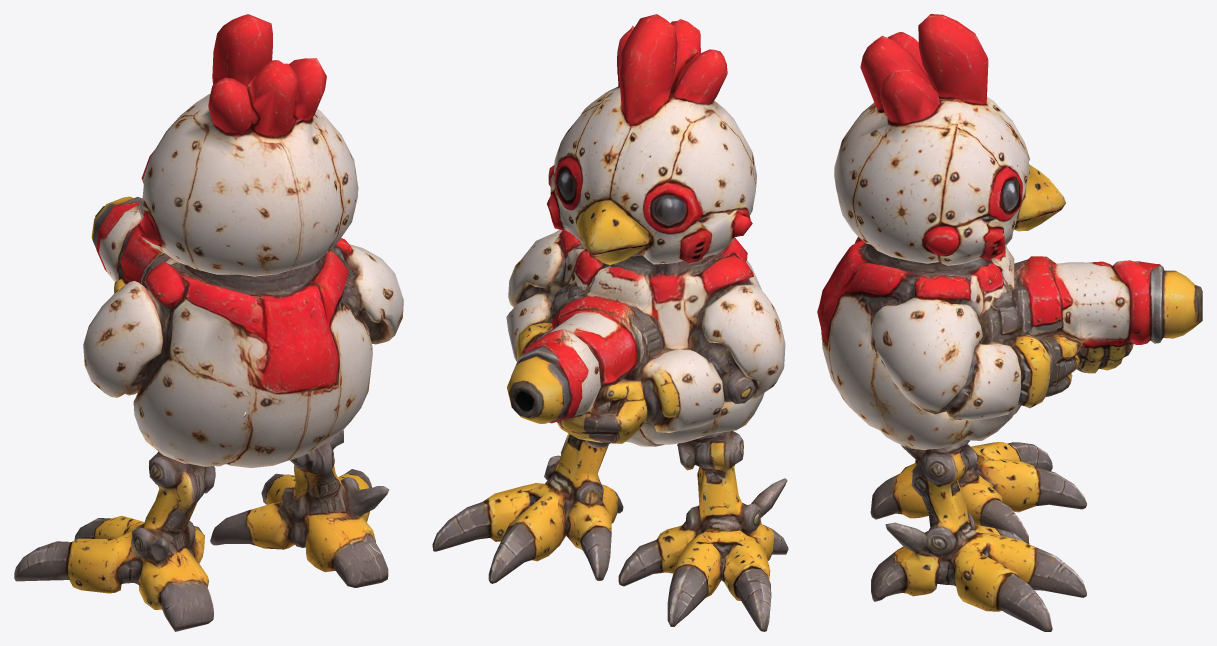
The model's file is chick-gunner.glb.
The picture shows the model from 3 angles, left to right: view 1: azimuth 30°, elevation 25°; view 2: azimuth 150°, elevation 25°; view 3: azimuth 270°, elevation 25°; orthographic projection. The views are drawn at different scales.
Visible parts, largest first — view 1: model; view 2: model; view 3: model.
Boxes of the visible parts, <box> form: model: <box>14,14,403,631</box>; model: <box>432,14,788,631</box>; model: <box>817,14,1202,631</box>.
Bounding box in the file's own units: 0.6525 × 1 × 0.6489.
1 material, 1 textured.
